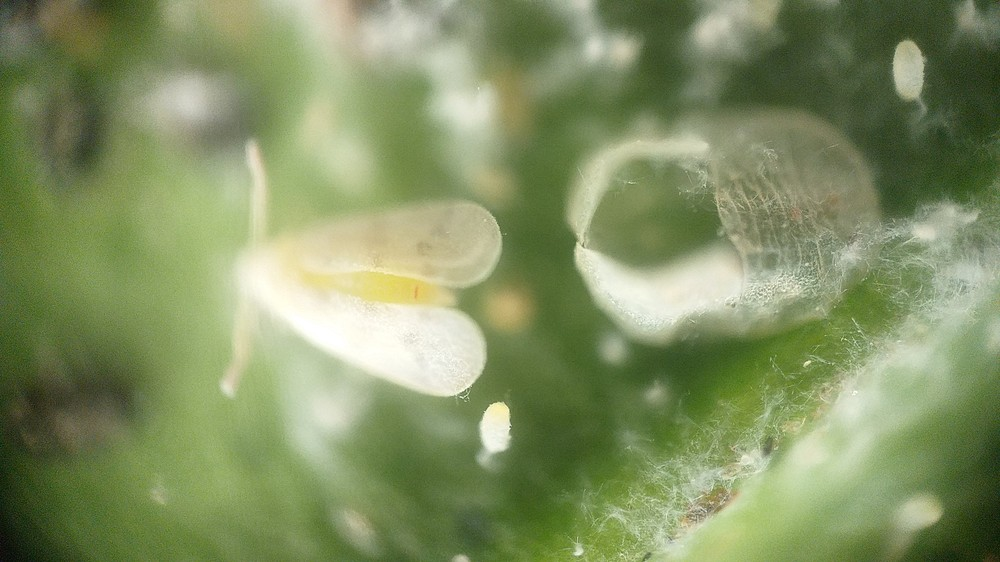Mosca Blanca: (203, 133, 512, 446)
